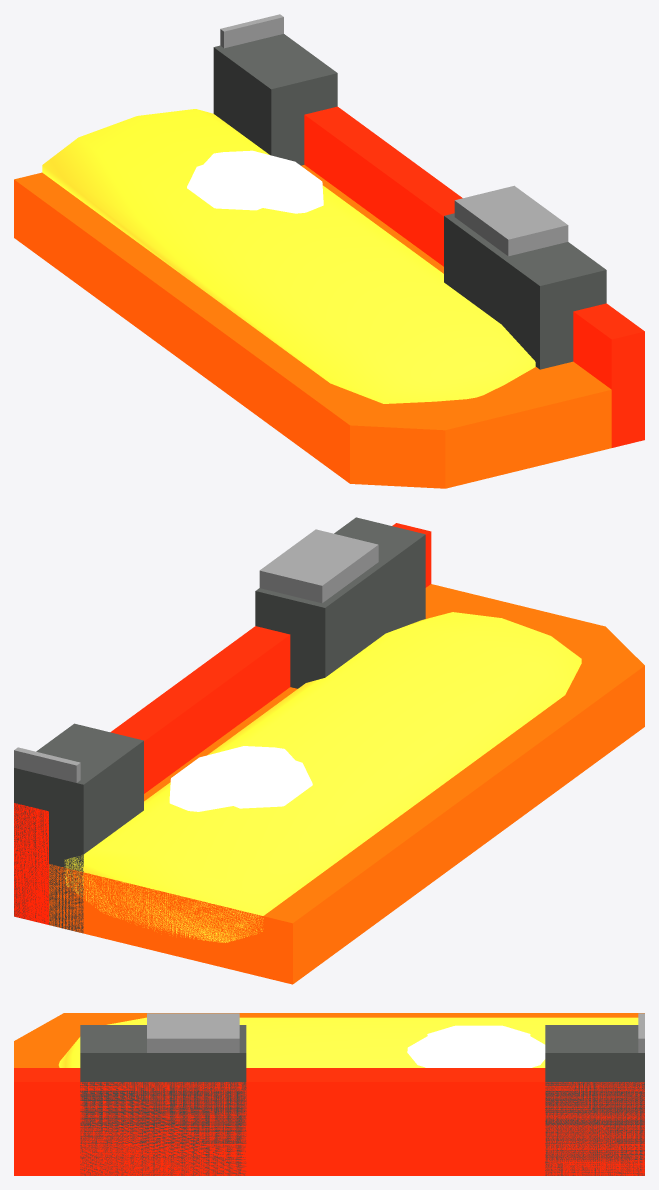
Rendered from newsha-39-f2.glb.
3 renders of one model, top to bottom at view 1: azimuth 30°, elevation 25°; view 2: azimuth 150°, elevation 25°; view 3: azimuth 270°, elevation 25°, orthographic. The views are drawn at different scales.
Parts seen in each view (by area): view 1: newsha-39-f2; view 2: newsha-39-f2; view 3: newsha-39-f2.
Boxes of the visible parts, x1,y1,x2,y2 form: newsha-39-f2: (14, 14, 644, 488); newsha-39-f2: (14, 517, 644, 984); newsha-39-f2: (14, 1013, 644, 1175).
Bounding box in the file's own units: 0.6667 × 0.38 × 1.58.
